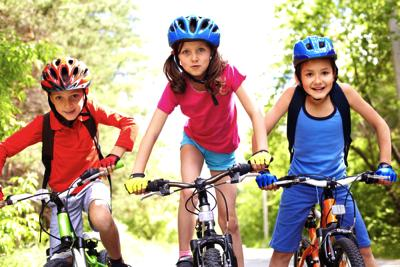With Helmet: (39, 56, 94, 122), (164, 16, 225, 74), (292, 34, 338, 101)
